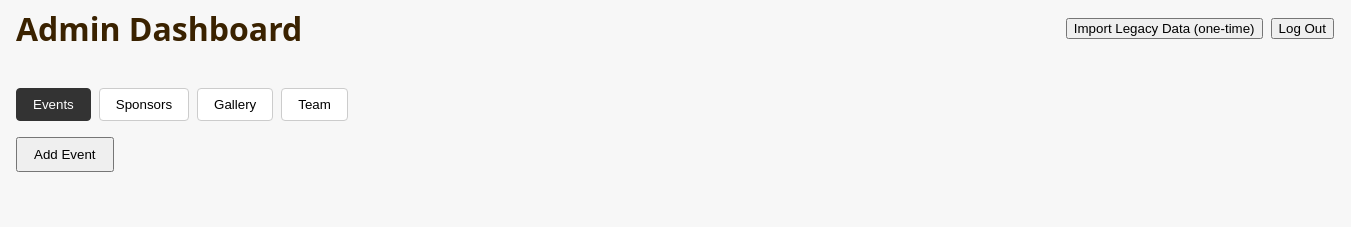
it: AdminDashboard › imports legacy data after confirmation
The image size is (1351, 227).
Click the button "Import Legacy Data (one-time)": (1164, 29) [1066, 18, 1263, 39]
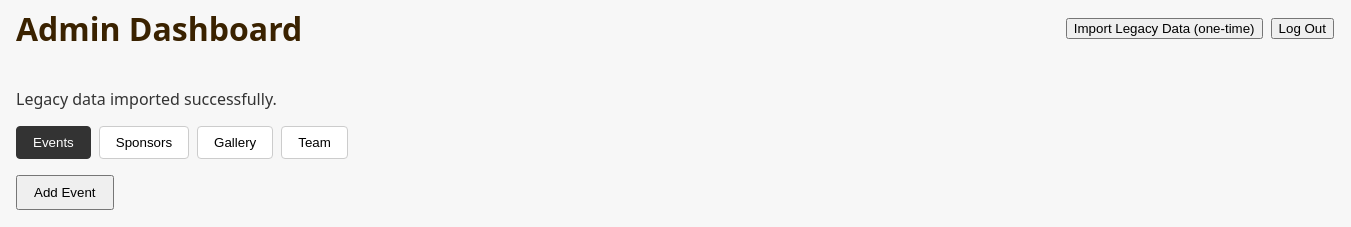
Result: the text "Legacy data imported successfully." is shown at [16, 88, 277, 110]
